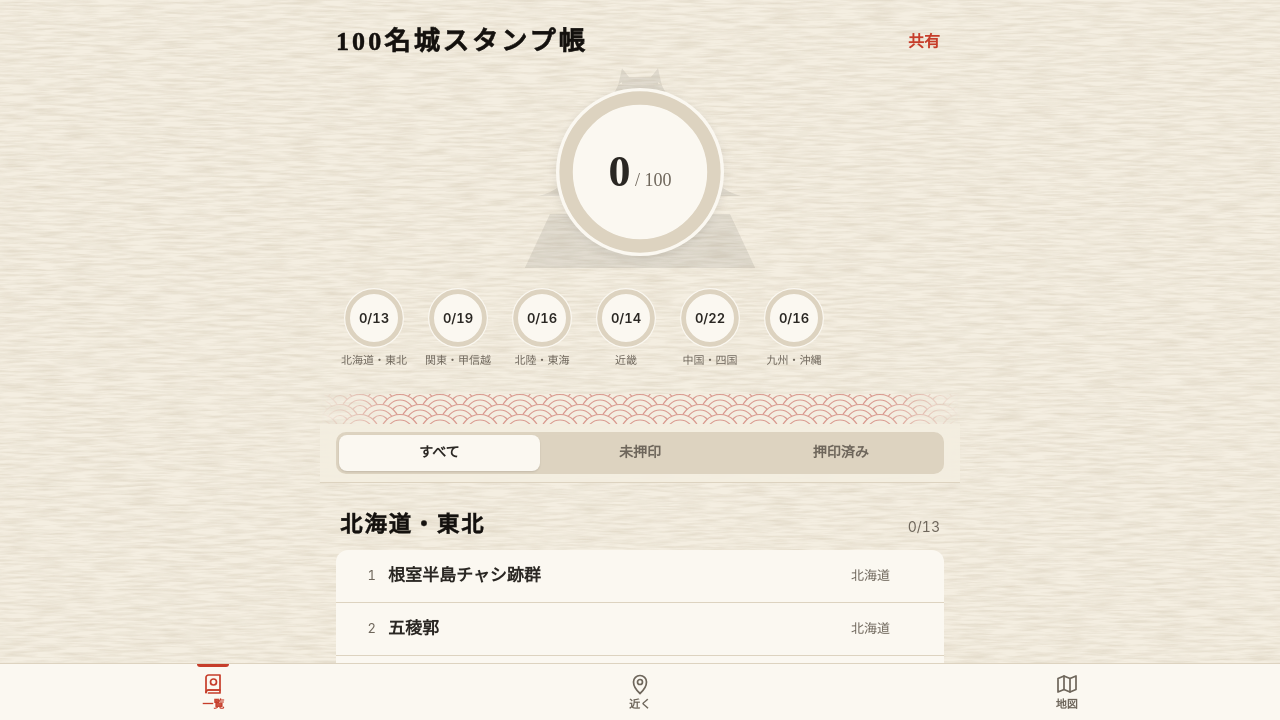
Test case: App › タブバー › 「近く」タブで 近くの城 の画面に切り替わる
Expected: the picture named "全体 0/100" is shown, [556, 88, 724, 256]
Click the link "近く" at [640, 692], box [628, 672, 652, 711]
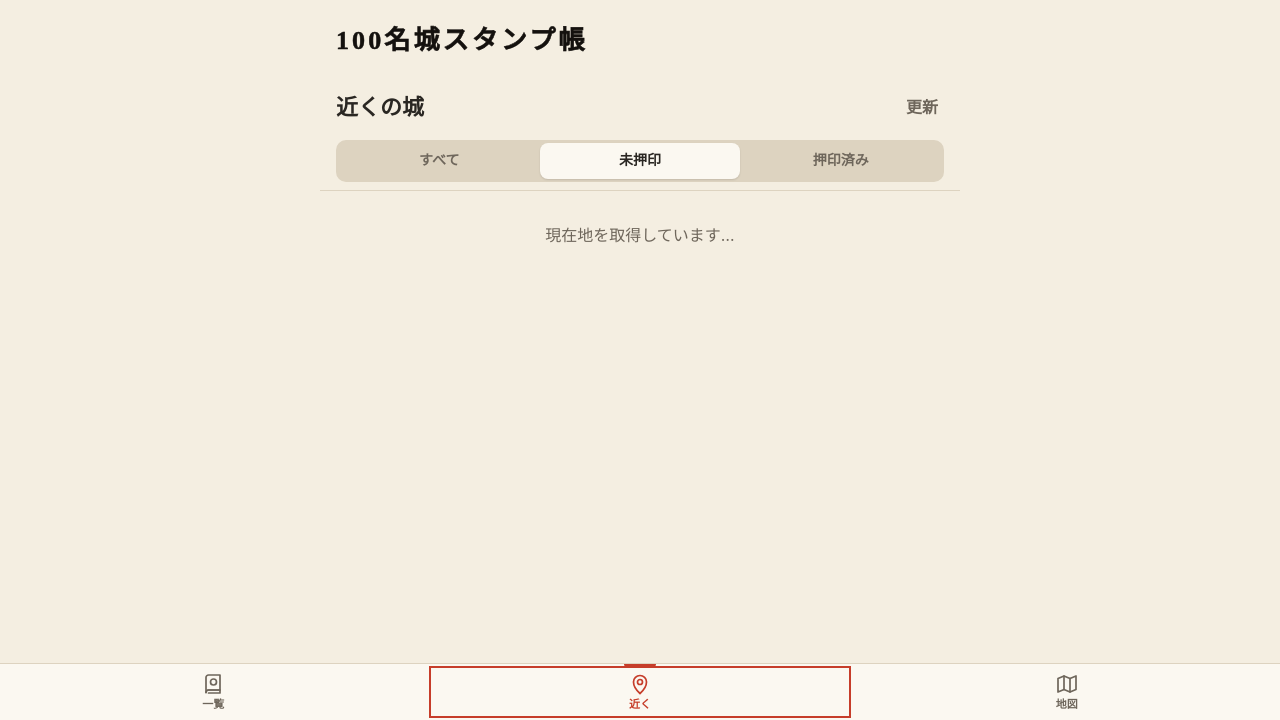
Now the heading "近くの城" is shown, box [336, 90, 424, 125]
Now no list items are shown
